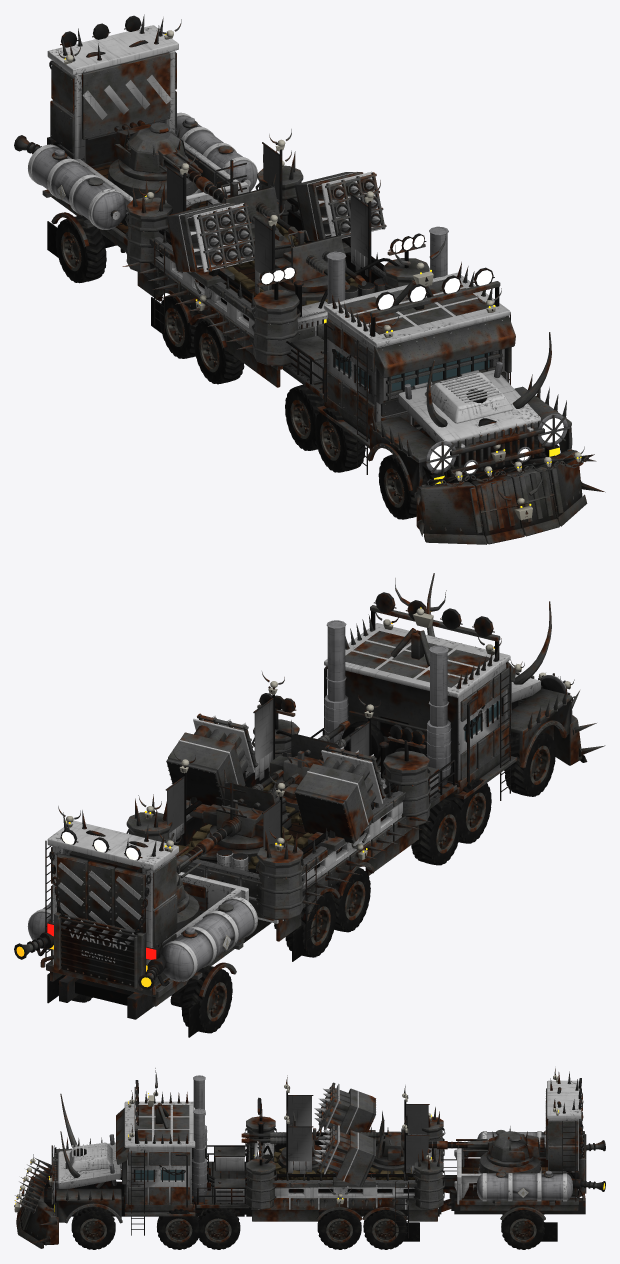
The model's file is boss_warrig.glb.
3 views of the same model, one above another, from view 1: azimuth 30°, elevation 25°; view 2: azimuth 150°, elevation 25°; view 3: azimuth 270°, elevation 25° (orthographic). The views are drawn at different scales.
Visible parts, largest first — view 1: body, part_plow, panel_hood, part_pod_R, part_tank_R, part_pod_L, part_turret_main, part_turret_1, panel_fender_R, panel_armor_roof, wheel_T2R, panel_grille (+15 smaller); view 2: body, part_pod_R, ramp_rear, part_pod_L, part_tank_R, part_turret_2, panel_armor_roof, panel_fender_R, part_stack_R, wheel_RR, part_stack_L, panel_armor_cab_R (+14 smaller); view 3: body, part_tank_L, part_plow, part_pod_L, part_turret_main, panel_hood, part_pod_R, panel_armor_cab_L, panel_fender_L, panel_tower_L, wheel_FL, wheel_RL (+13 smaller).
Boxes of the visible parts, x1=… form: body: x1=14, y1=14, x2=570, y2=484; part_plow: x1=414, y1=446, x2=605, y2=544; panel_hood: x1=398, y1=369, x2=541, y2=448; part_pod_R: x1=166, y1=203, x2=254, y2=282; part_tank_R: x1=28, y1=144, x2=126, y2=229; part_pod_L: x1=294, y1=171, x2=386, y2=240; part_turret_main: x1=114, y1=120, x2=230, y2=203; part_turret_1: x1=275, y1=222, x2=366, y2=292; panel_fender_R: x1=367, y1=413, x2=435, y2=492; panel_armor_roof: x1=341, y1=279, x2=488, y2=334; wheel_T2R: x1=55, y1=215, x2=106, y2=283; panel_grille: x1=447, y1=421, x2=544, y2=476; body: x1=14, y1=573, x2=570, y2=1037; part_pod_R: x1=294, y1=745, x2=386, y2=852; ramp_rear: x1=40, y1=912, x2=156, y2=994; part_pod_L: x1=166, y1=713, x2=258, y2=805; part_tank_R: x1=161, y1=896, x2=257, y2=981; part_turret_2: x1=203, y1=768, x2=299, y2=849; panel_armor_roof: x1=345, y1=631, x2=489, y2=687; panel_fender_R: x1=508, y1=687, x2=572, y2=767; part_stack_R: x1=426, y1=645, x2=451, y2=785; wheel_RR: x1=411, y1=799, x2=461, y2=865; part_stack_L: x1=324, y1=620, x2=348, y2=742; panel_armor_cab_R: x1=460, y1=668, x2=509, y2=780; body: x1=44, y1=1068, x2=605, y2=1241; part_tank_L: x1=473, y1=1170, x2=572, y2=1205; part_plow: x1=14, y1=1154, x2=73, y2=1248; part_pod_L: x1=314, y1=1124, x2=375, y2=1190; part_turret_main: x1=401, y1=1126, x2=544, y2=1167; panel_hood: x1=53, y1=1142, x2=121, y2=1188; part_pod_R: x1=314, y1=1082, x2=375, y2=1133; panel_armor_cab_L: x1=128, y1=1152, x2=190, y2=1204; panel_fender_L: x1=55, y1=1188, x2=122, y2=1223; panel_tower_L: x1=548, y1=1121, x2=578, y2=1196; wheel_FL: x1=71, y1=1206, x2=115, y2=1249; wheel_RL: x1=198, y1=1208, x2=240, y2=1249.
Bounding box in the file's own units: 9.34 × 10.19 × 36.1.
Materials: 14 (9 with a texture image).
